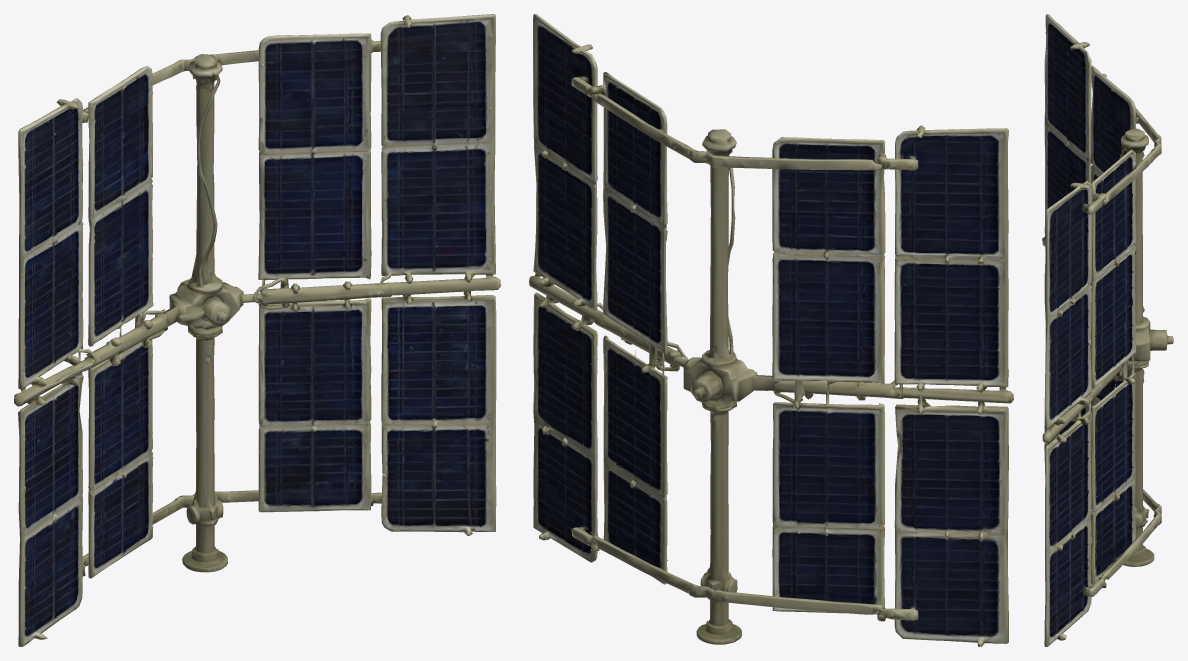
The model's file is shuttle_solar_panel.glb.
3 renders of one model, left to right at view 1: azimuth 30°, elevation 25°; view 2: azimuth 150°, elevation 25°; view 3: azimuth 270°, elevation 25°, orthographic. The views are drawn at different scales.
Parts seen in each view (by area): view 1: tripo_node_deb6db35-9a8d-441c-8bd1-cb4dc2d9e851; view 2: tripo_node_deb6db35-9a8d-441c-8bd1-cb4dc2d9e851; view 3: tripo_node_deb6db35-9a8d-441c-8bd1-cb4dc2d9e851.
Boxes of the visible parts, bbox=[...] form: tripo_node_deb6db35-9a8d-441c-8bd1-cb4dc2d9e851: bbox=[14, 14, 500, 646]; tripo_node_deb6db35-9a8d-441c-8bd1-cb4dc2d9e851: bbox=[529, 14, 1013, 646]; tripo_node_deb6db35-9a8d-441c-8bd1-cb4dc2d9e851: bbox=[1042, 14, 1173, 646].
Bounding box in the file's own units: 0.9437 × 0.9817 × 0.2608.
1 material, 1 textured.
